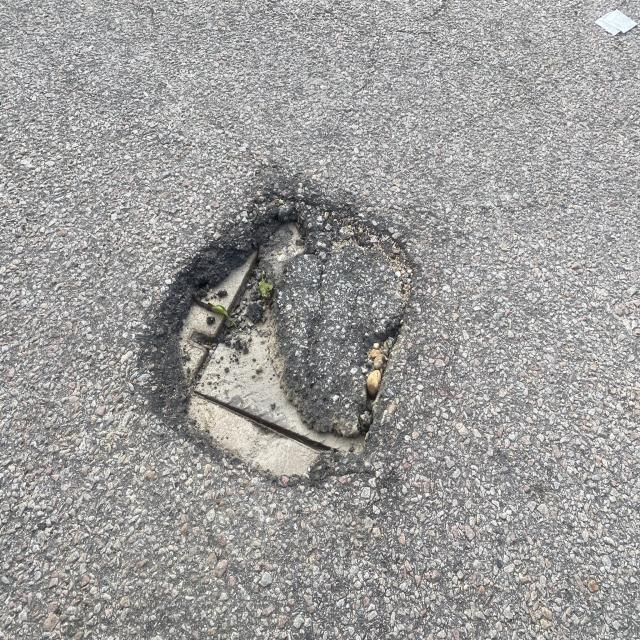Pothole: (116, 134, 437, 544)
